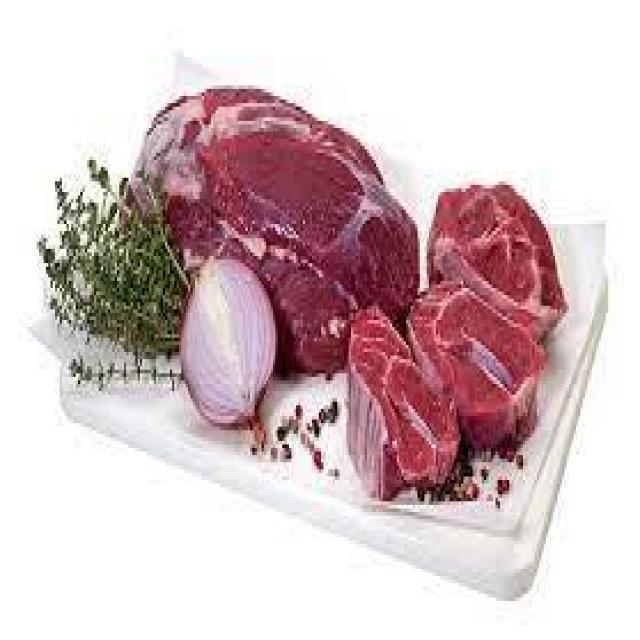Wet Waste: (177, 66, 449, 276)
